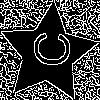C: (23, 28, 72, 69)
